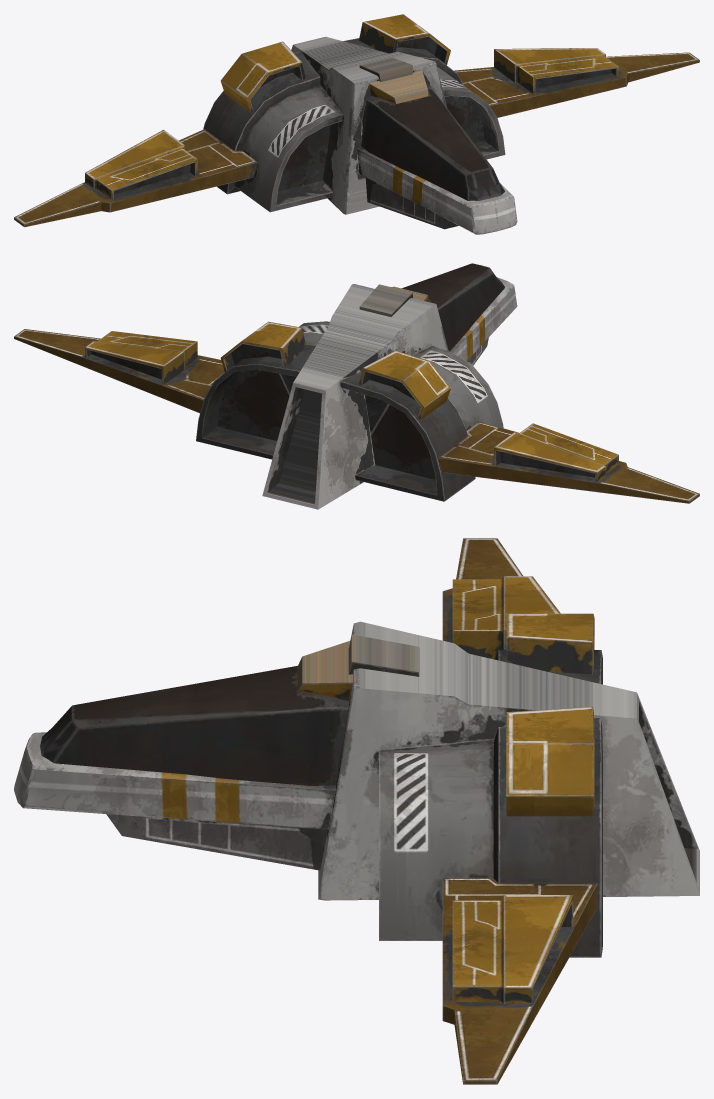
The model's file is quaternius-ultimate-spaceships-bob.glb.
The picture shows the model from 3 angles, top to bottom: view 1: azimuth 30°, elevation 25°; view 2: azimuth 150°, elevation 25°; view 3: azimuth 270°, elevation 25°; orthographic projection. The views are drawn at different scales.
Visible parts, largest first — view 1: Bob; view 2: Bob; view 3: Bob.
Boxes of the visible parts, <box> form: Bob: <box>14,14,699,234</box>; Bob: <box>14,263,699,509</box>; Bob: <box>14,538,699,1084</box>.
Size of the model in its own units: 10.5 by 2.03 by 5.61.
1 material, 1 textured.
